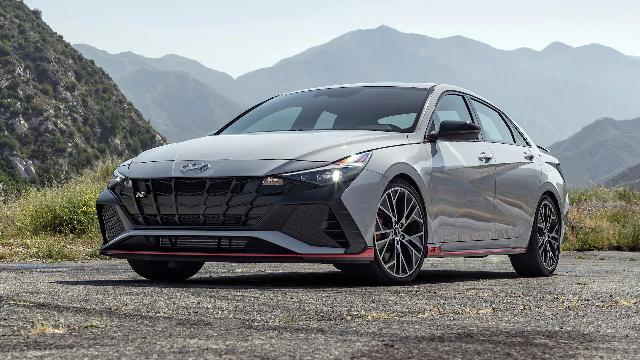hyundai: (95, 81, 570, 285)
